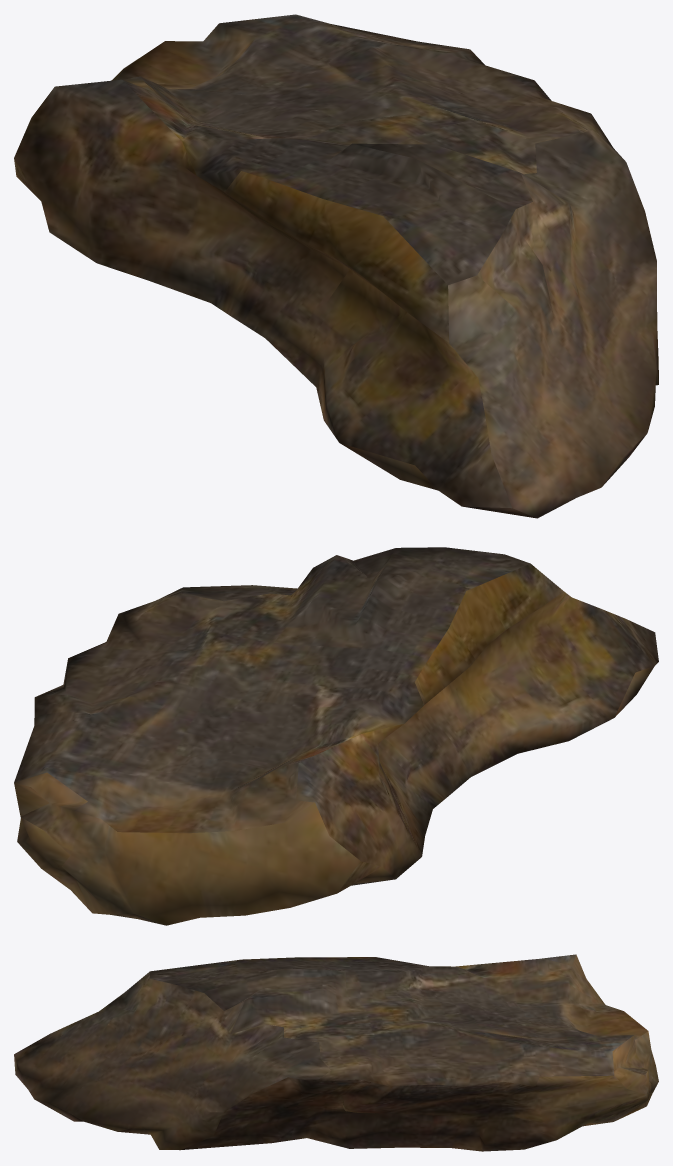
Rendered from rock_small_02.glb.
The picture shows the model from 3 angles, top to bottom: view 1: azimuth 30°, elevation 25°; view 2: azimuth 150°, elevation 25°; view 3: azimuth 270°, elevation 25°; orthographic projection. The views are drawn at different scales.
Visible parts, largest first — view 1: rock_small_02; view 2: rock_small_02; view 3: rock_small_02.
Part boxes in pixels (bbox=[...]): rock_small_02: bbox=[14, 14, 658, 518]; rock_small_02: bbox=[14, 547, 658, 925]; rock_small_02: bbox=[14, 954, 658, 1151].
Bounding box in the file's own units: 0.074 × 0.0332 × 0.1445.
1 material, 1 textured.
